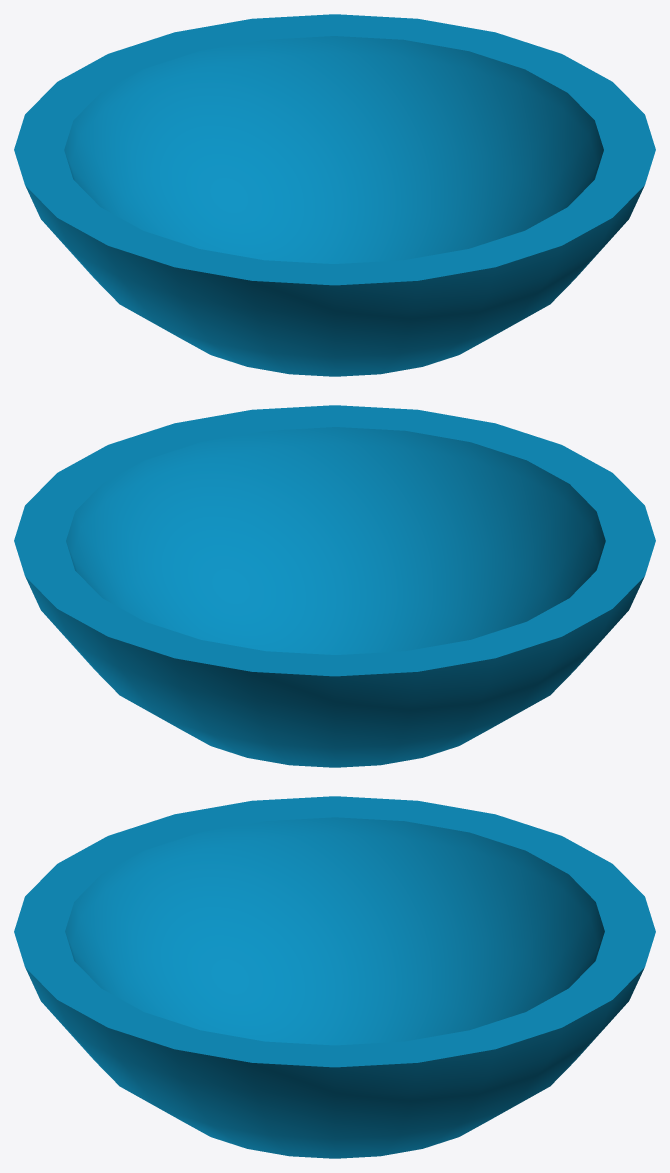
Rendered from bowl.fbx.
The picture shows the model from 3 angles, top to bottom: view 1: azimuth 30°, elevation 25°; view 2: azimuth 150°, elevation 25°; view 3: azimuth 270°, elevation 25°; orthographic projection.
Parts seen in each view (by area): view 1: convexApproximation; view 2: convexApproximation; view 3: convexApproximation.
Boxes of the visible parts, x1,y1,x2,y2 form: convexApproximation: (14, 14, 655, 376); convexApproximation: (14, 405, 655, 767); convexApproximation: (14, 796, 655, 1158).
Bounding box in the file's own units: 141 × 141 × 47.34.
